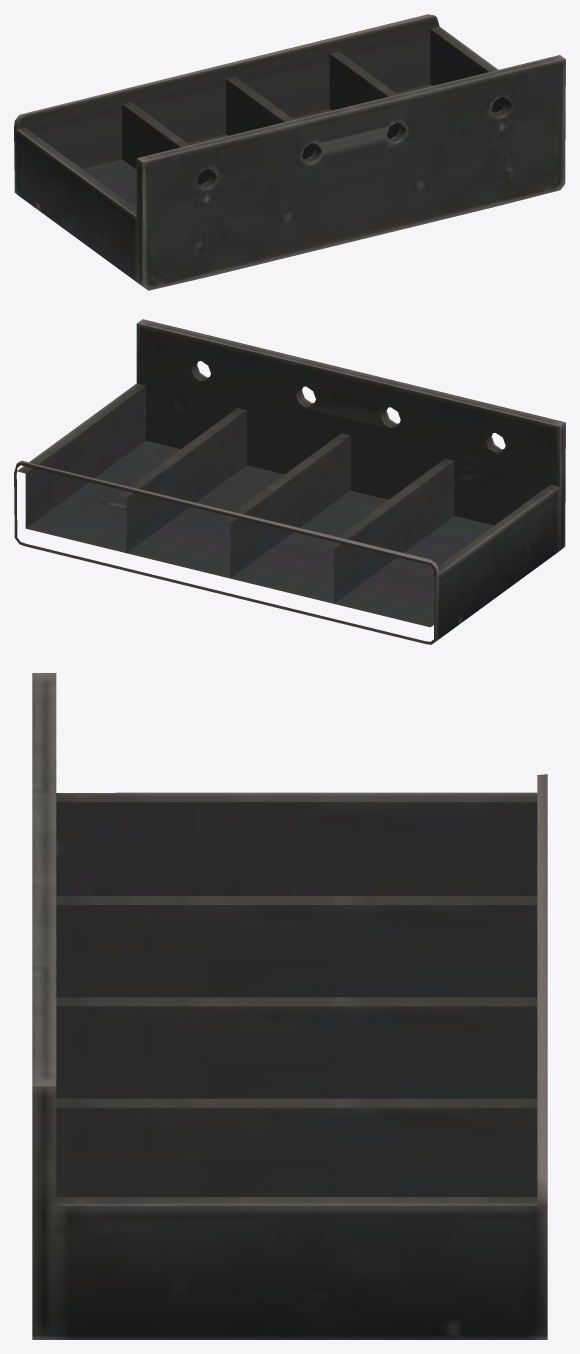
Rendered from smallshelfsegmented_b.glb.
The picture shows the model from 3 angles, top to bottom: view 1: azimuth 30°, elevation 25°; view 2: azimuth 150°, elevation 25°; view 3: azimuth 270°, elevation 25°; orthographic projection. The views are drawn at different scales.
Visible parts, largest first — view 1: SmallShelfSegmented_B; view 2: SmallShelfSegmented_B; view 3: SmallShelfSegmented_B.
Boxes of the visible parts, x1,y1,x2,y2 form: SmallShelfSegmented_B: (14,14,565,290); SmallShelfSegmented_B: (14,319,565,644); SmallShelfSegmented_B: (32,673,547,1339).
Size of the model in its own units: 0.3557 by 0.1046 by 0.1875.
Materials: 1 (1 with a texture image).
